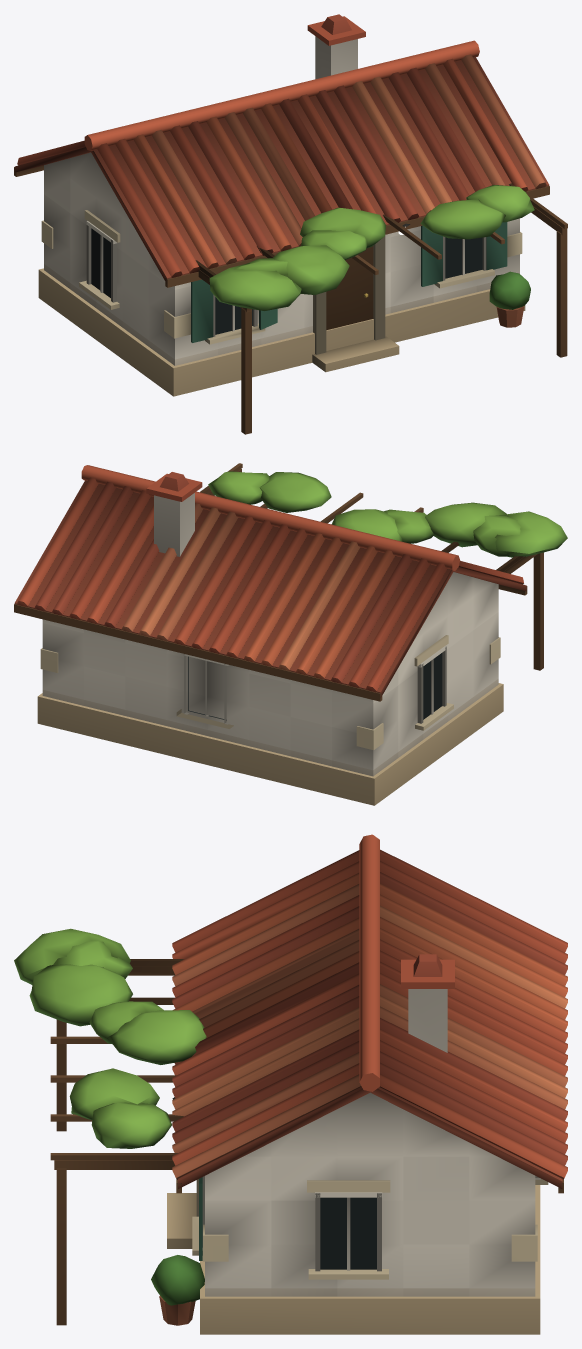
The model's file is farmhouse.glb.
The picture shows the model from 3 angles, top to bottom: view 1: azimuth 30°, elevation 25°; view 2: azimuth 150°, elevation 25°; view 3: azimuth 270°, elevation 25°; orthographic projection. The views are drawn at different scales.
Visible parts, largest first — view 1: farmhouse_mesh; view 2: farmhouse_mesh; view 3: farmhouse_mesh.
Boxes of the visible parts, <box> form: farmhouse_mesh: <box>14,14,567,434</box>; farmhouse_mesh: <box>14,463,567,805</box>; farmhouse_mesh: <box>14,834,567,1334</box>.
Size of the model in its own units: 7.86 by 4.86 by 7.72.
